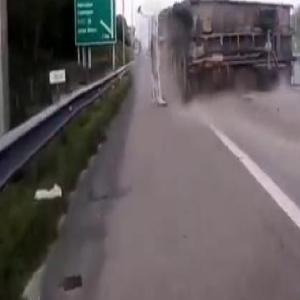critical: (135, 0, 298, 112)
